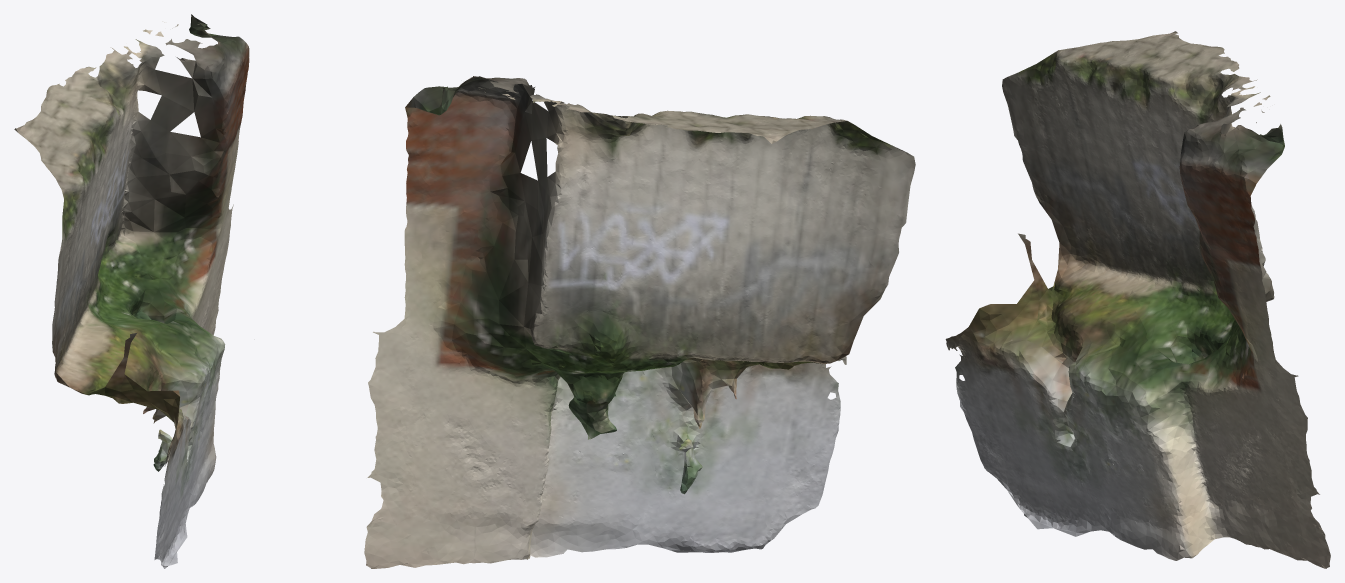
Rendered from texturedMesh.obj.
The picture shows the model from 3 angles, left to right: view 1: azimuth 30°, elevation 25°; view 2: azimuth 150°, elevation 25°; view 3: azimuth 270°, elevation 25°; orthographic projection. The views are drawn at different scales.
Parts seen in each view (by area): view 1: TexturedMesh; view 2: TexturedMesh; view 3: TexturedMesh.
Part boxes in pixels (<box>): TexturedMesh: <box>14,14,249,568</box>; TexturedMesh: <box>364,76,915,568</box>; TexturedMesh: <box>945,31,1330,568</box>.
Size of the model in its own units: 1.13 by 1.54 by 1.12.
1 material, 1 textured.
